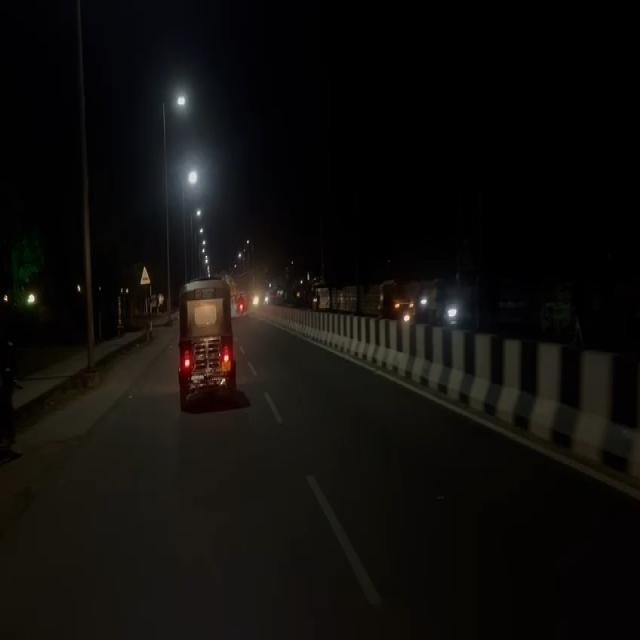bien_nguy_hiem: (139, 264, 151, 289)
